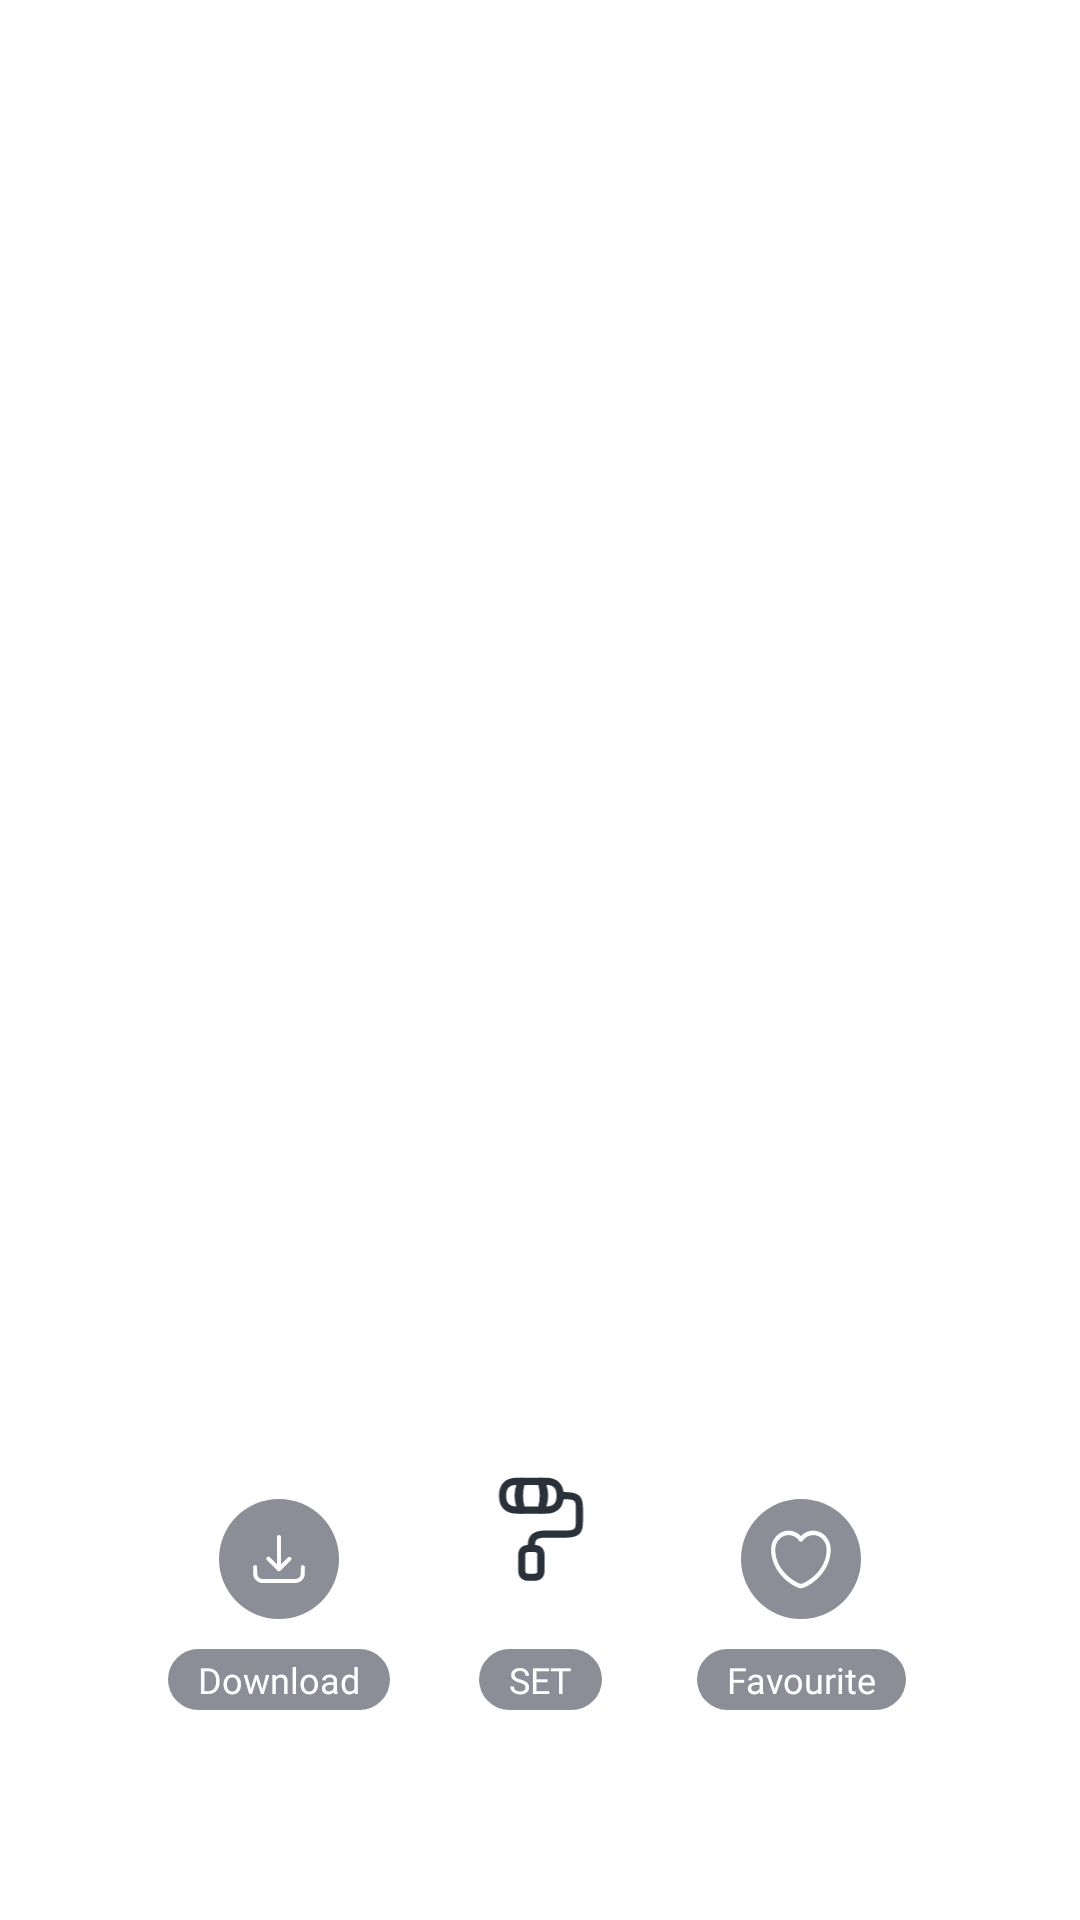

Icon bounding boxes for this 1080w x 1920h phone screenshot, format bbox=[x1, y1, x2, y2]:
paint: bbox=[498, 1477, 584, 1581]
